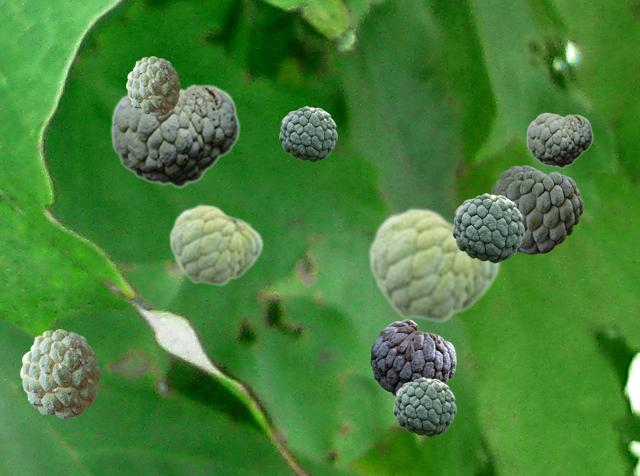atis: (367, 206, 499, 323), (110, 81, 239, 187), (490, 165, 582, 253), (168, 203, 262, 286), (20, 329, 99, 417), (370, 319, 455, 396), (452, 193, 523, 262), (393, 377, 455, 436), (526, 112, 592, 167), (279, 106, 336, 161), (126, 56, 179, 115)
